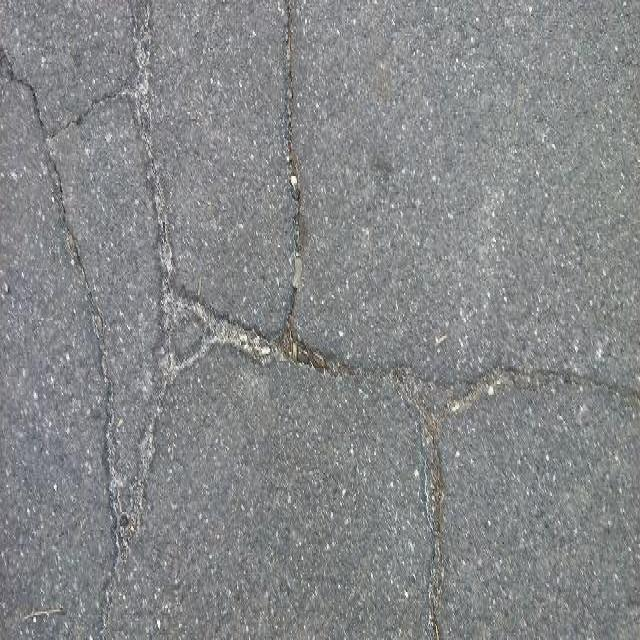Crack: (0, 1, 214, 639), (215, 310, 639, 417), (400, 353, 452, 639), (277, 1, 309, 366)
